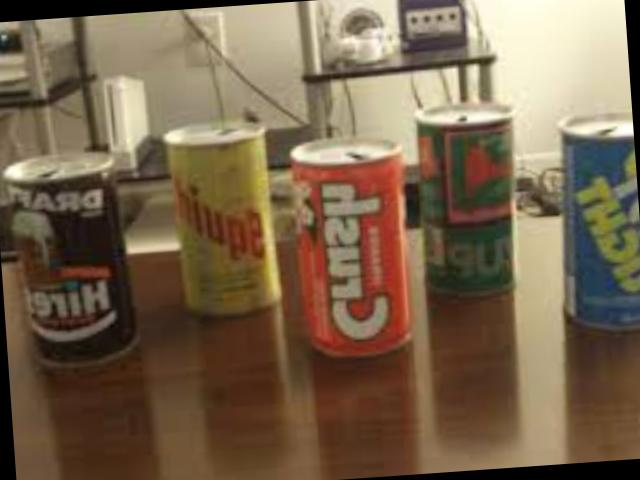metal: (5, 151, 137, 365), (292, 139, 412, 354), (166, 123, 281, 313), (418, 102, 515, 293), (563, 112, 640, 329)
